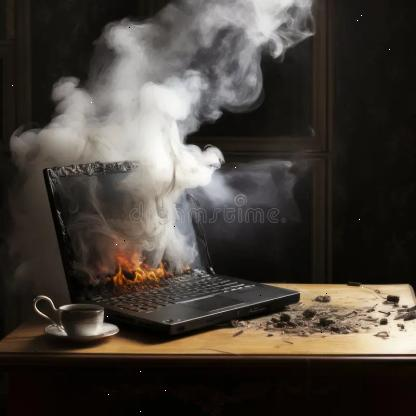fire: (108, 253, 184, 294)
smoke: (7, 0, 318, 304)
